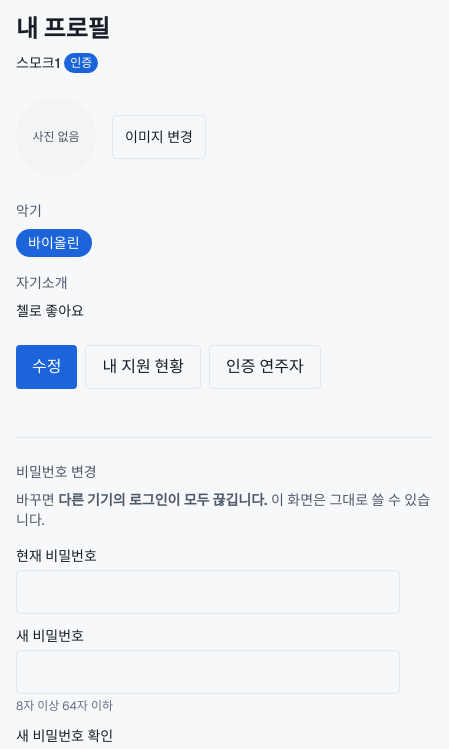
Test case: ProfilePage › 저장 중에는 저장 버튼을 잠그고 진행 상태를 알린다
The width and height of the screenshot is (449, 749).
Click the button "수정".
click(47, 367)  # box top-left (16, 345), bottom-right (78, 389)
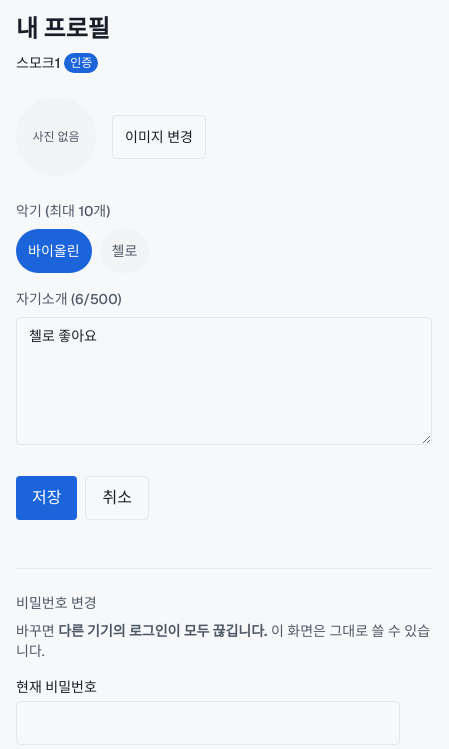
Click the button "저장".
click(47, 498)  # box top-left (16, 476), bottom-right (78, 520)
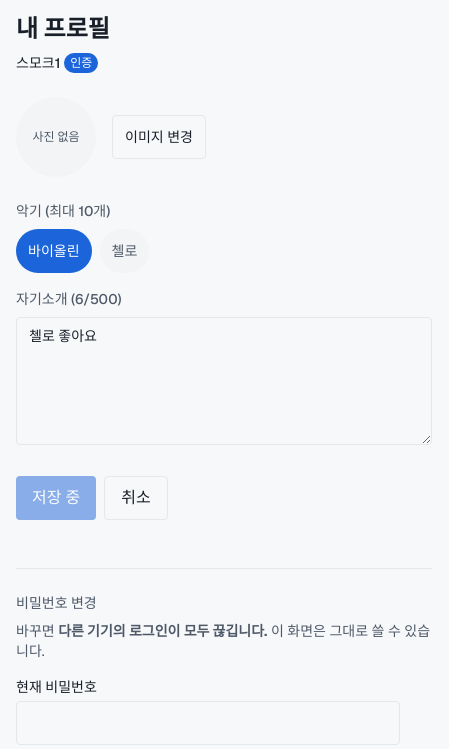
expect the button "저장 중" is disabled: met, box top-left (16, 476), bottom-right (96, 520)
